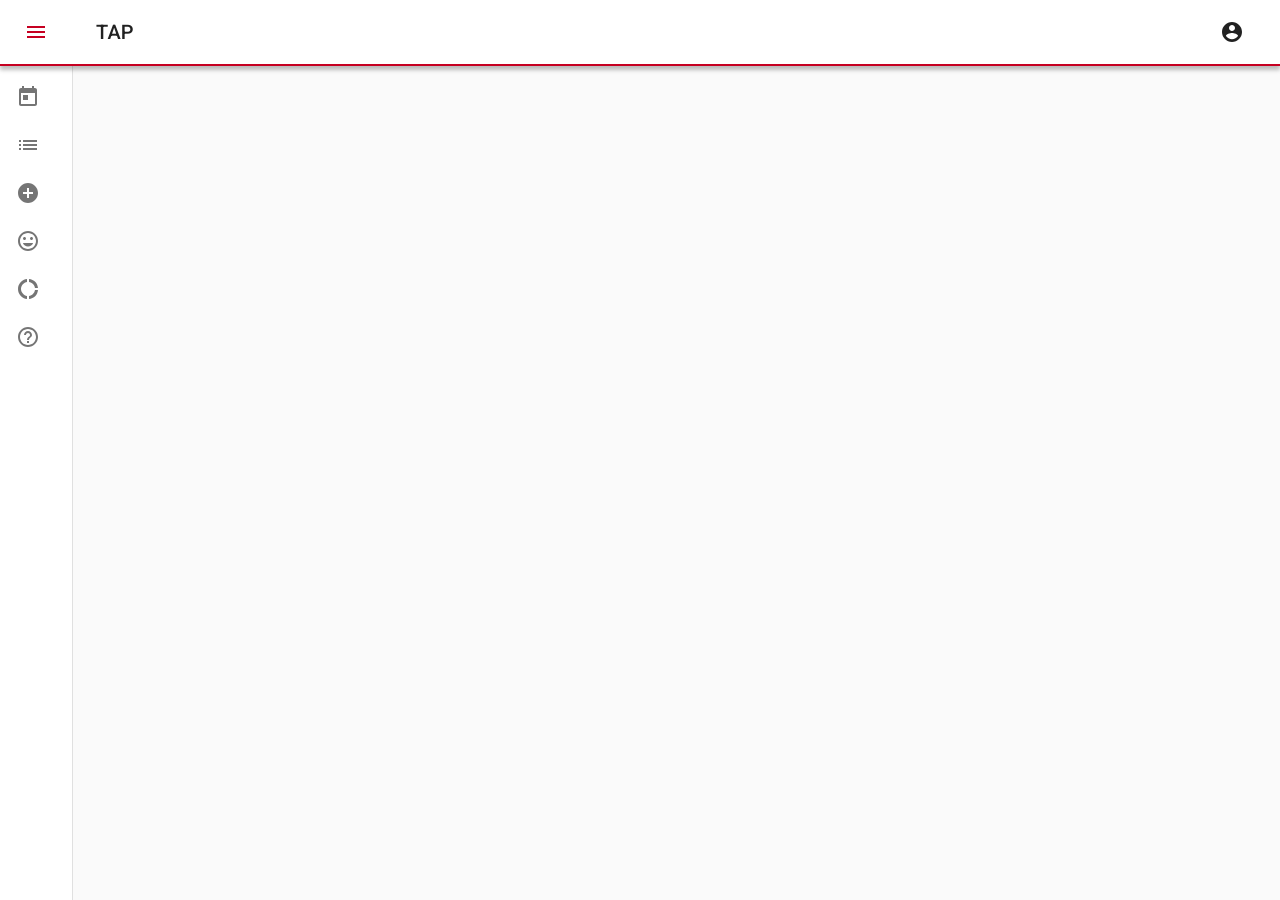
Test: Navigation › should open user settings menu
Click the button with test id "user-menu". click: (1232,32)
box: [1208,8,1256,56]
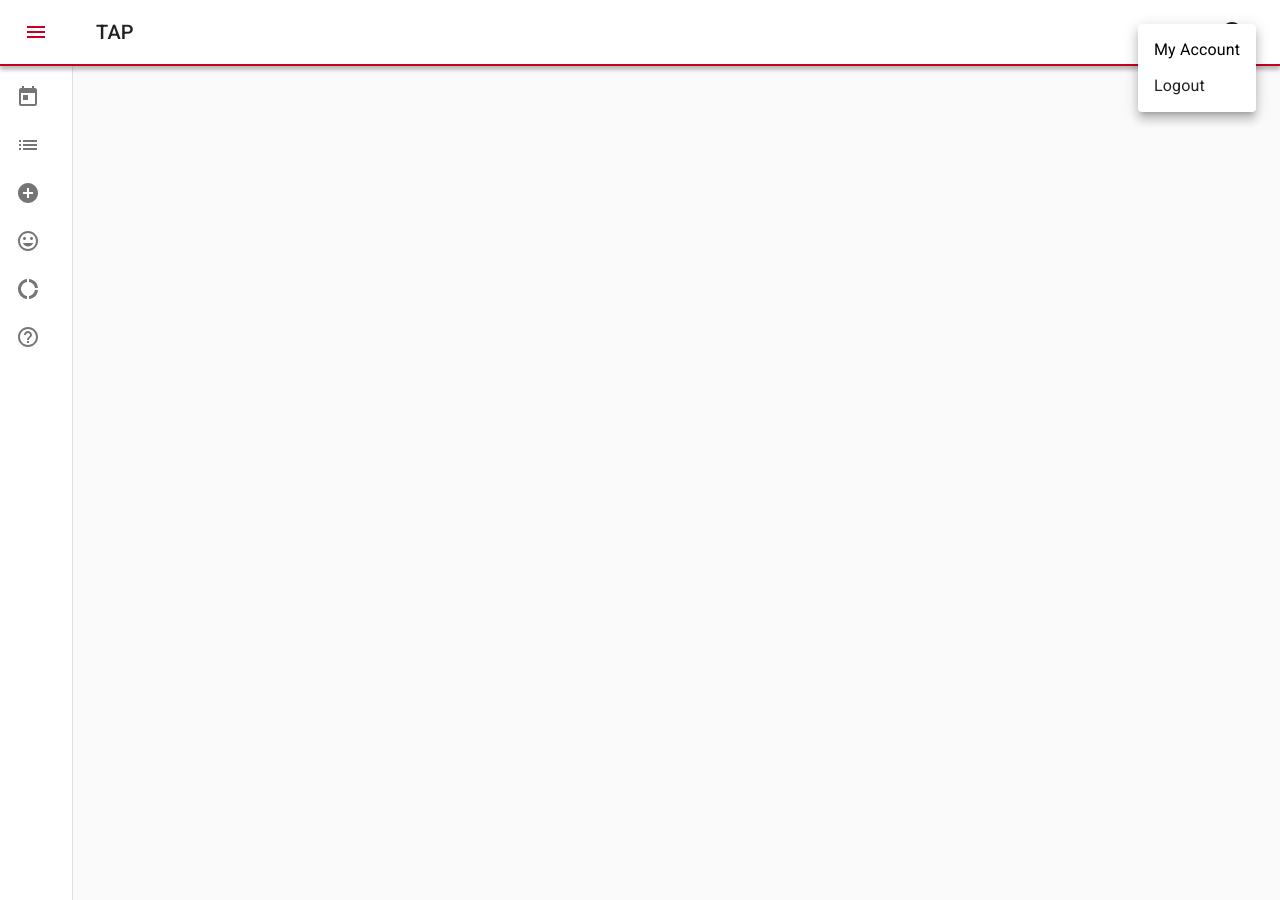
Now the element with test id "right-user-menu" is shown, box [1138,24,1256,112]
